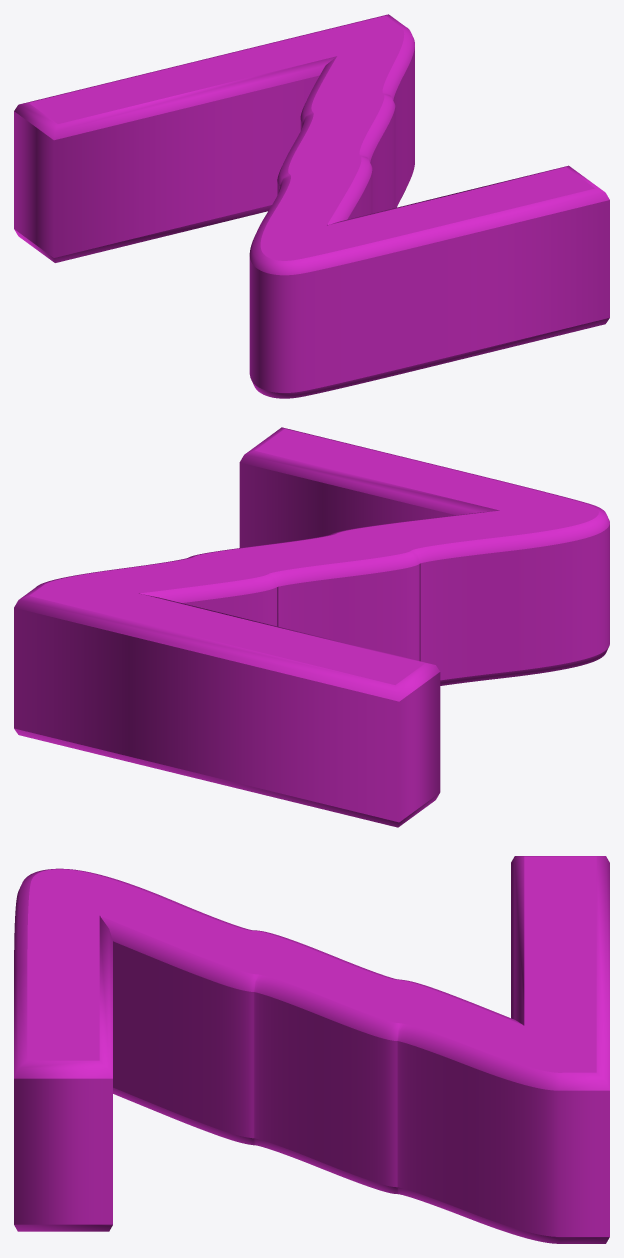
File: Blocky_Letter_z.fbx
3 views of the same model, one above another, from view 1: azimuth 30°, elevation 25°; view 2: azimuth 150°, elevation 25°; view 3: azimuth 270°, elevation 25° (orthographic). The views are drawn at different scales.
Parts seen in each view (by area): view 1: BlockyLetter_z; view 2: BlockyLetter_z; view 3: BlockyLetter_z.
Part boxes in pixels (left/top/right/bottom): BlockyLetter_z: left=14, top=14, right=609, bottom=398; BlockyLetter_z: left=14, top=427, right=609, bottom=827; BlockyLetter_z: left=14, top=856, right=609, bottom=1243.
Bounding box in the file's own units: 0.401 × 0.14 × 0.4433.
